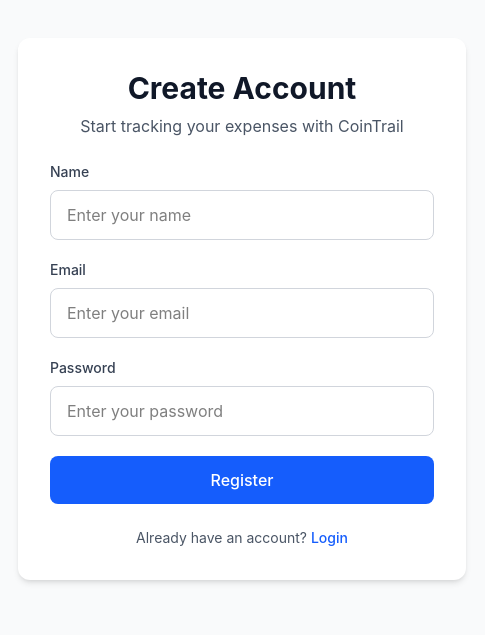
it: RegisterPage › shows error when registration fails
Step 1. Type "Deepak Yadav" into the field labelled "Name" → (242, 214), box [50,190,434,240]
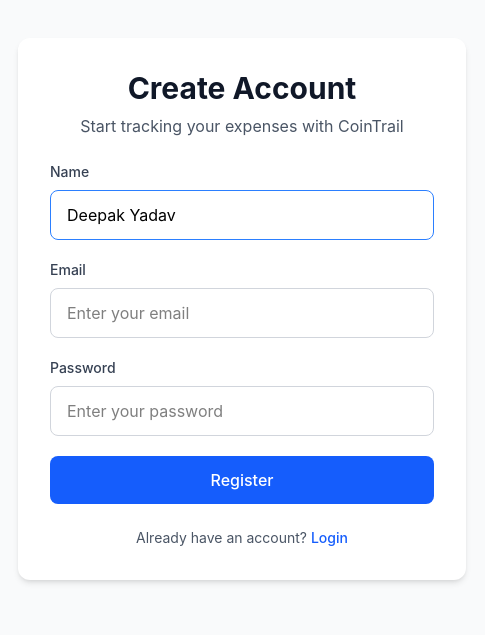
Step 2. Type "deepak@example.com" into the field labelled "Email" → (242, 312), box [50,288,434,338]
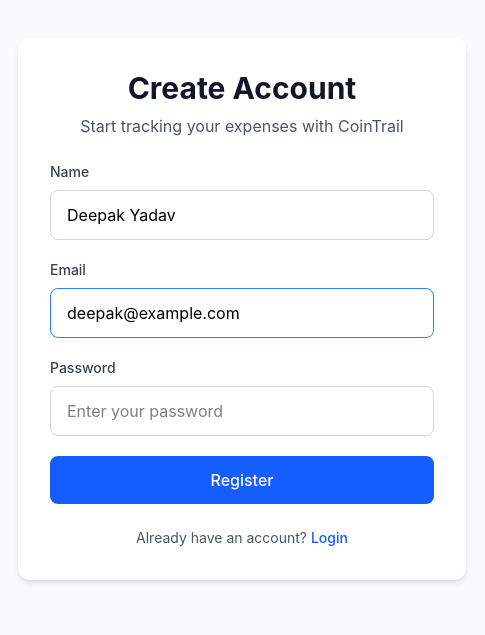
Step 3. Type "password123" into the password field labelled "Password" → (242, 410), box [50,386,434,436]
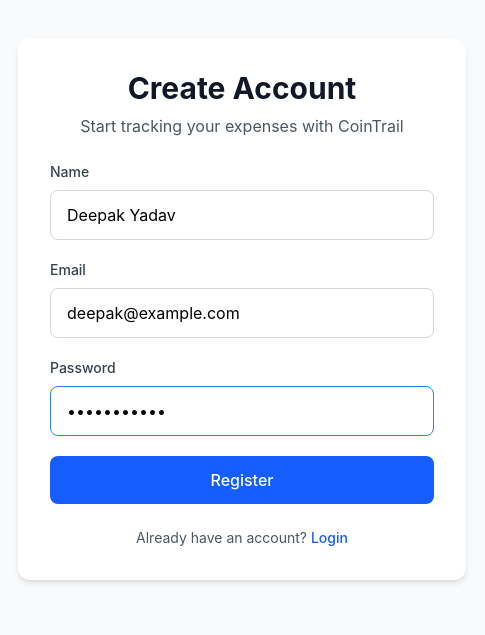
Step 4. Click the button "Register" → (242, 480), box [50,456,434,504]
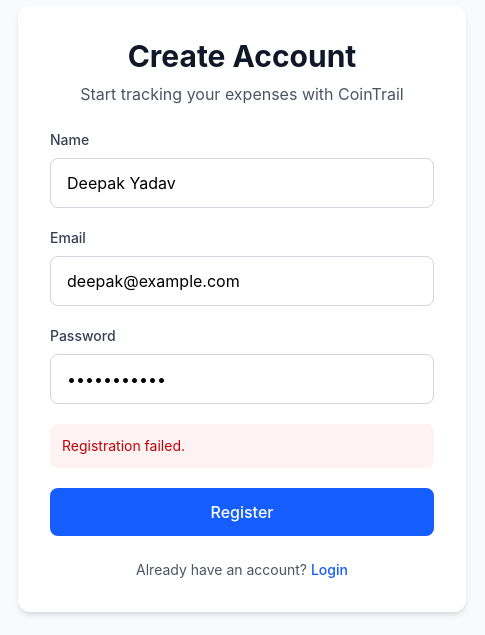
Check: the text "Registration failed." is shown, box [50,424,434,468]
